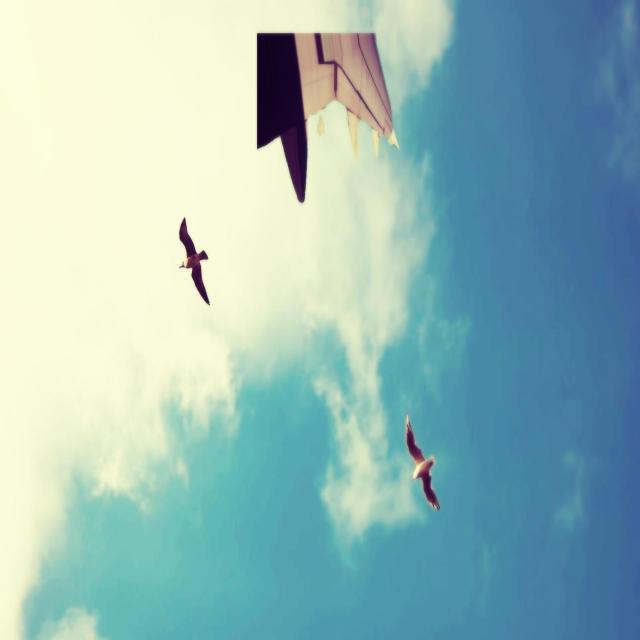airplane: (256, 30, 400, 203)
